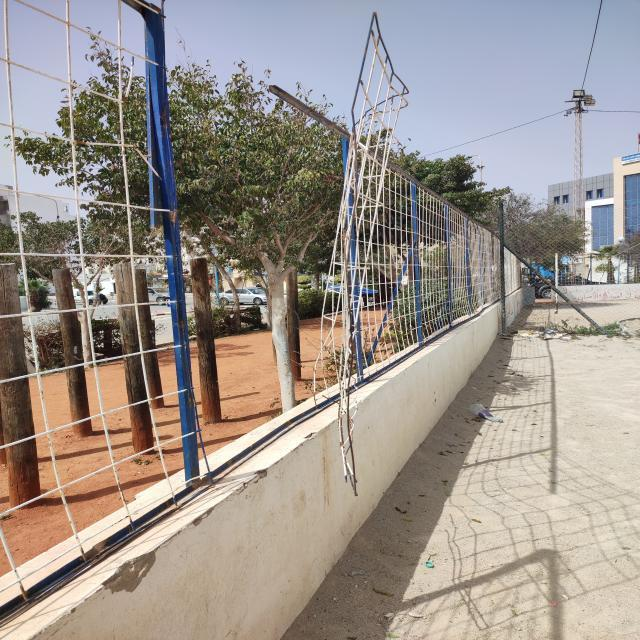fence line: (160, 31, 363, 476)
